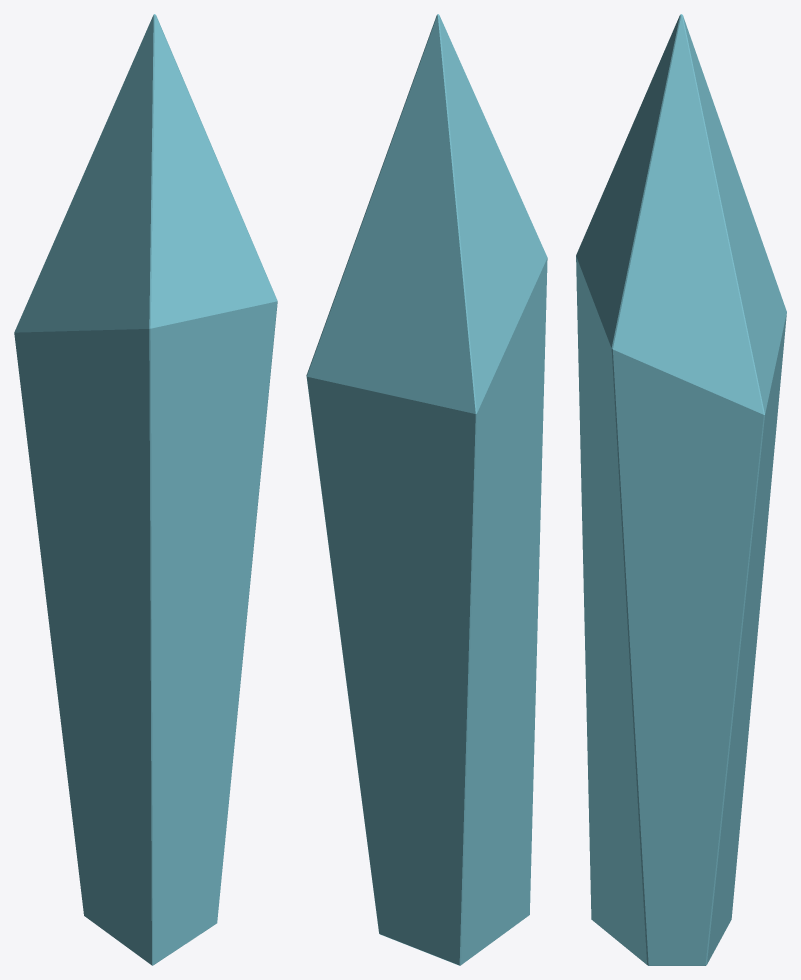
The model's file is Icespike_Tall.fbx.
3 renders of one model, left to right at view 1: azimuth 30°, elevation 25°; view 2: azimuth 150°, elevation 25°; view 3: azimuth 270°, elevation 25°, orthographic. The views are drawn at different scales.
Parts seen in each view (by area): view 1: Ice spike Long; view 2: Ice spike Long; view 3: Ice spike Long.
Part boxes in pixels (x1,y1,x2,y2): Ice spike Long: (14, 14, 277, 965); Ice spike Long: (306, 14, 547, 965); Ice spike Long: (576, 14, 786, 965).
Bounding box in the file's own units: 42.16 × 205 × 42.13.
